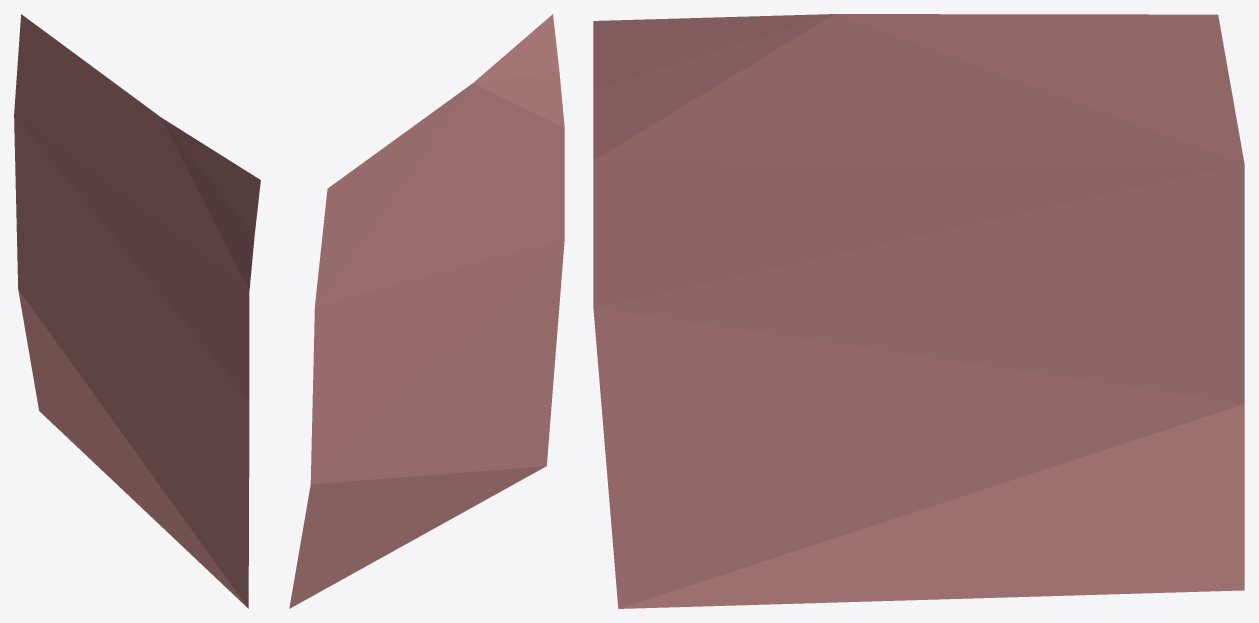
File: Air tickets.FBX
3 renders of one model, left to right at view 1: azimuth 30°, elevation 25°; view 2: azimuth 150°, elevation 25°; view 3: azimuth 270°, elevation 25°, orthographic. The views are drawn at different scales.
Visible parts, largest first — view 1: pCube15; view 2: pCube15; view 3: pCube15.
Part boxes in pixels (x1,y1,x2,y2): pCube15: (14, 14, 260, 608); pCube15: (289, 14, 564, 608); pCube15: (593, 14, 1244, 608).
Size of the model in its own units: 1.78 by 24.97 by 24.97.
